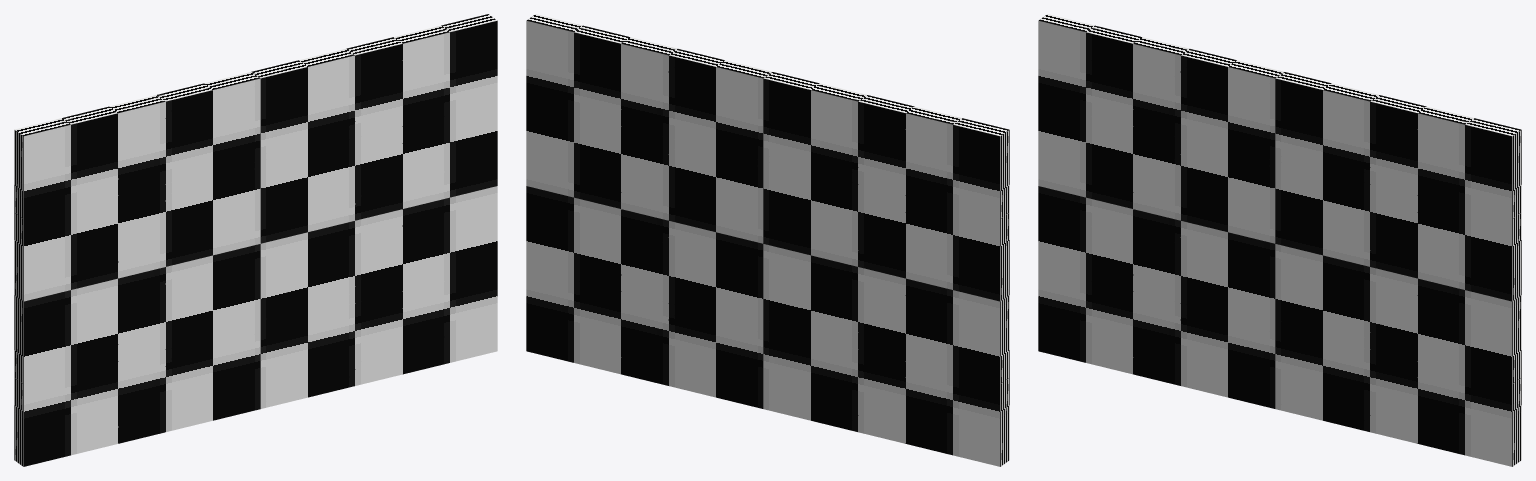
The model's file is checkeredFlag.FBX.
3 renders of one model, left to right at view 1: azimuth 30°, elevation 25°; view 2: azimuth 150°, elevation 25°; view 3: azimuth 330°, elevation 25°, orthographic.
Visible parts, largest first — view 1: Box001; view 2: Box001; view 3: Box001.
Part boxes in pixels (bbox=[...]): Box001: bbox=[14, 14, 497, 466]; Box001: bbox=[526, 14, 1009, 466]; Box001: bbox=[1038, 14, 1521, 466].
Size of the model in its own units: 30 by 1 by 20.
